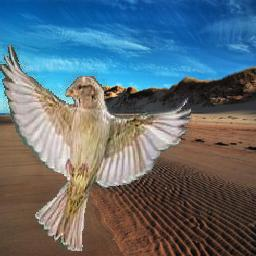Sparrow: (0, 43, 192, 252)
